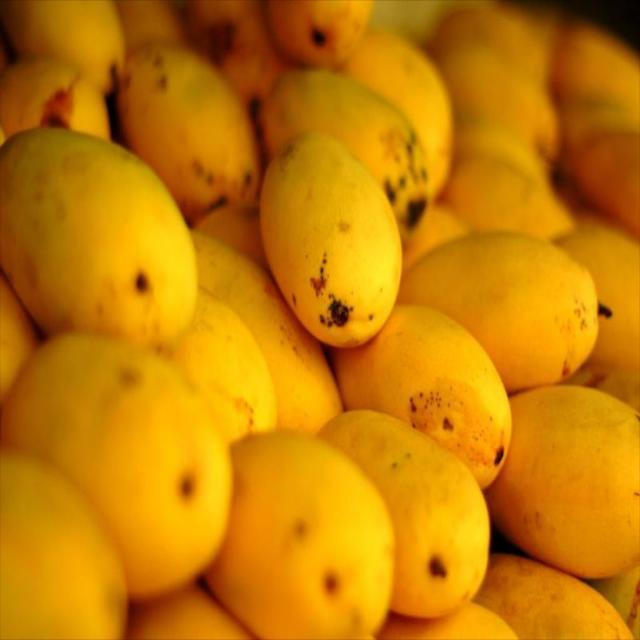Mango: (0, 2, 639, 638), (401, 221, 611, 397), (257, 130, 406, 346)
